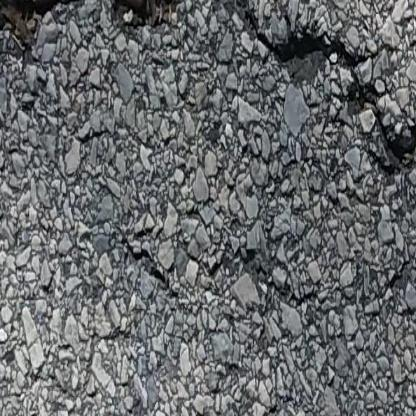Cracks: (0, 0, 416, 194)
